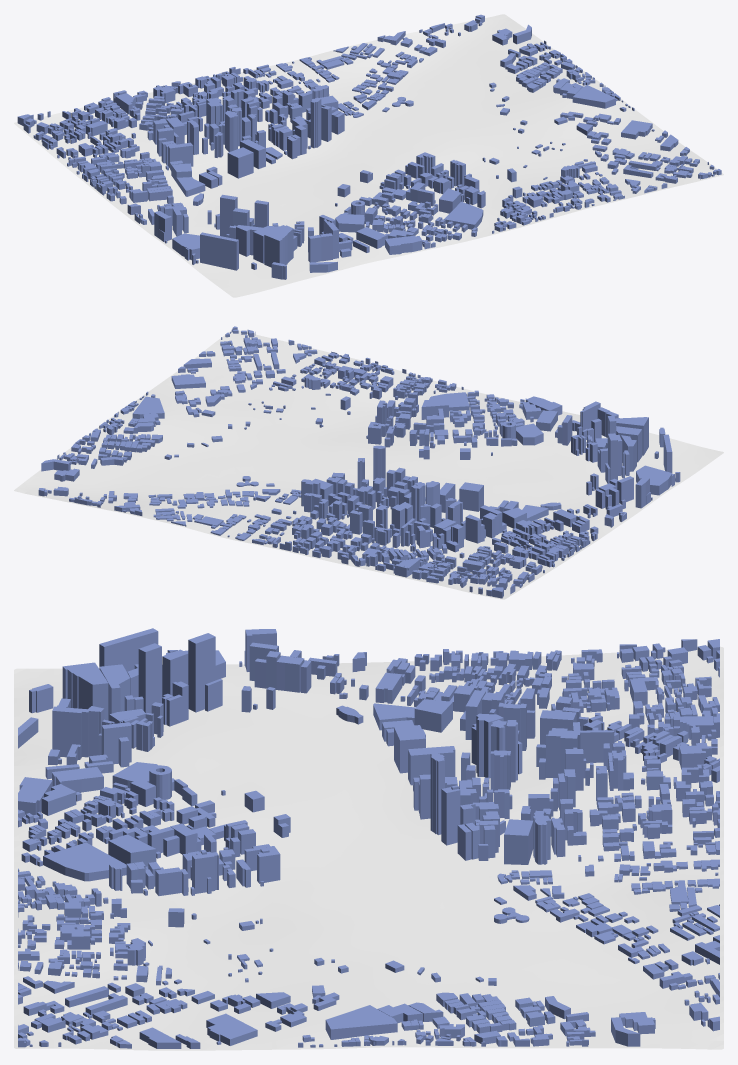
3 views of the same model, one above another, from view 1: azimuth 30°, elevation 25°; view 2: azimuth 150°, elevation 25°; view 3: azimuth 270°, elevation 25° (orthographic). The views are drawn at different scales.
Visible parts, largest first — view 1: Mesh; view 2: Mesh; view 3: Mesh.
Part boxes in pixels (x1,y1,x2,y2): Mesh: (14,14,723,297); Mesh: (14,326,723,599); Mesh: (14,628,723,1050).
Bounding box in the file's own units: 1157 × 112 × 900.
